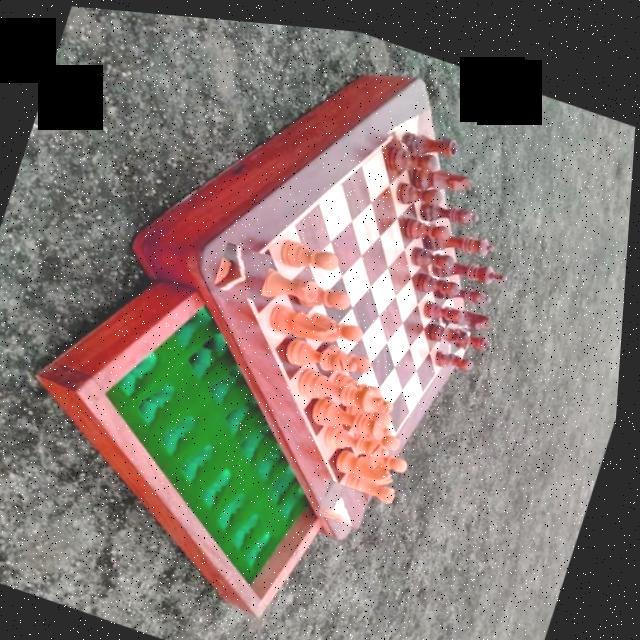chess-table-corners: (215, 236, 275, 297), (386, 83, 436, 142), (323, 472, 375, 522), (438, 312, 474, 356)
